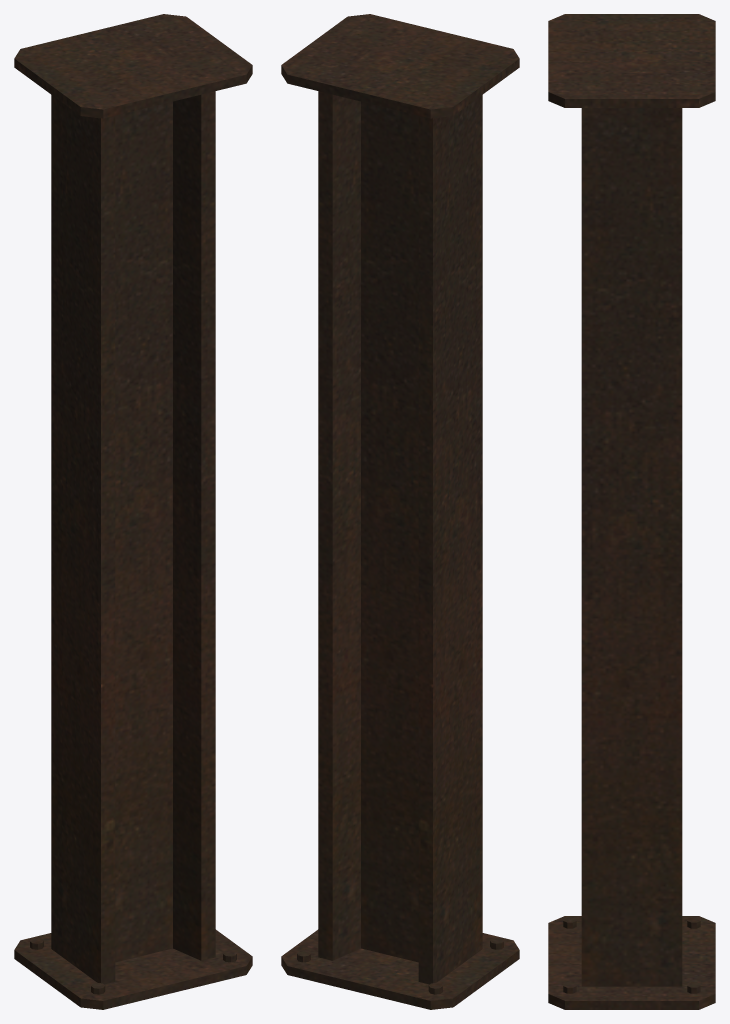
File: beam_hc_vertical_1.dae
3 views of the same model, side by side, from view 1: azimuth 30°, elevation 25°; view 2: azimuth 150°, elevation 25°; view 3: azimuth 270°, elevation 25° (orthographic).
Parts seen in each view (by area): view 1: beam_hc_vertical_1; view 2: beam_hc_vertical_1; view 3: beam_hc_vertical_1.
Boxes of the visible parts, x1,y1,x2,y2 form: beam_hc_vertical_1: [14, 14, 252, 1009]; beam_hc_vertical_1: [281, 14, 519, 1009]; beam_hc_vertical_1: [548, 14, 715, 1009].
Bounding box in the file's own units: 0.6 × 0.5 × 3.
Materials: 1 (1 with a texture image).
